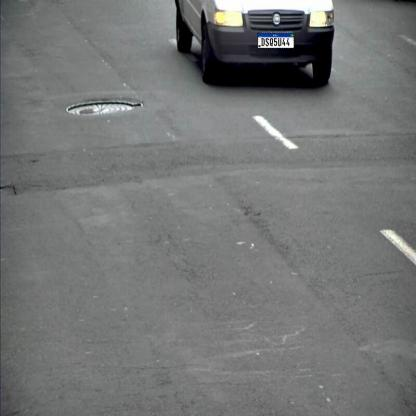PlacaM: (258, 32, 294, 48)
